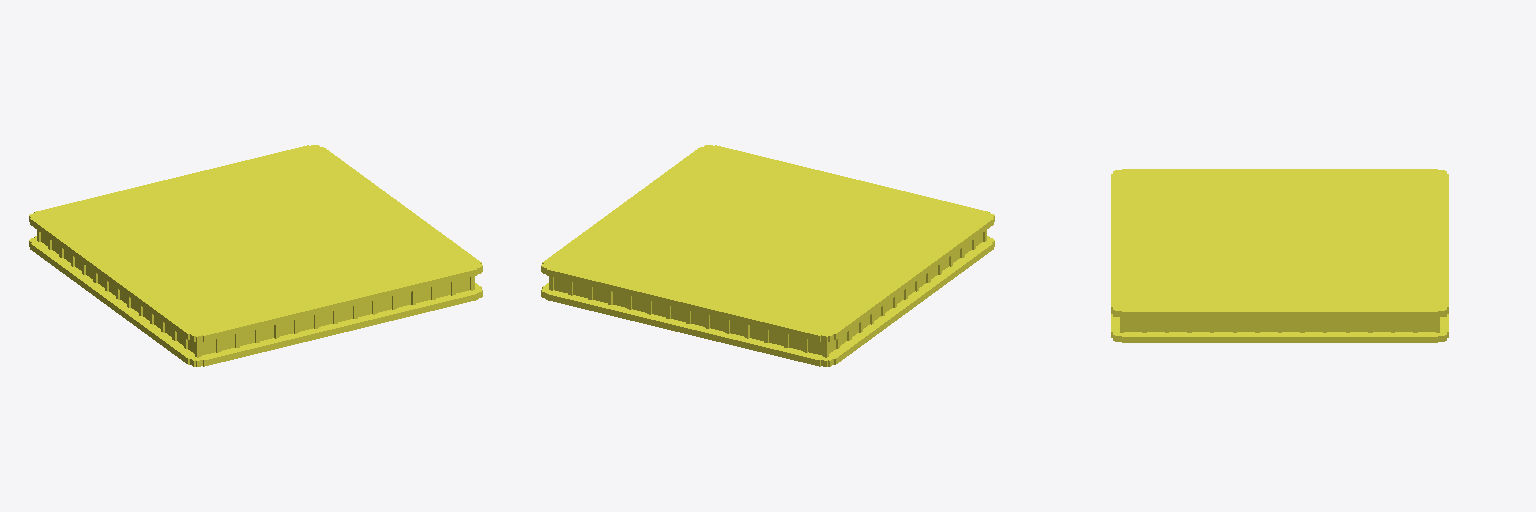
3 renders of one model, left to right at view 1: azimuth 30°, elevation 25°; view 2: azimuth 150°, elevation 25°; view 3: azimuth 270°, elevation 25°, orthographic.
Visible parts, largest first — view 1: object 1; view 2: object 1; view 3: object 1.
Boxes of the visible parts, box(x1,y1,x2,y2) form: object 1: box(29, 145, 482, 366); object 1: box(541, 145, 994, 366); object 1: box(1111, 169, 1448, 342).
Size of the model in its own units: 15 by 1.5 by 15.
1 materials, 1 textured.